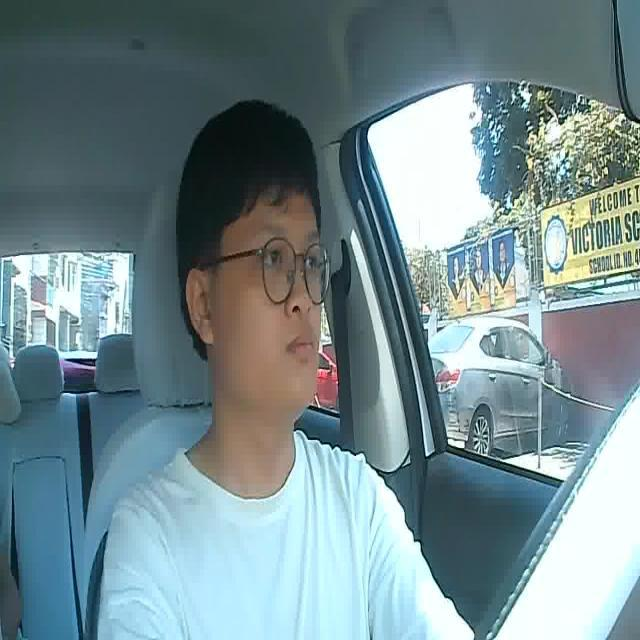Attentive: (175, 99, 324, 421)
Eye-Open: (260, 244, 292, 270), (298, 251, 319, 274)
Normal: (280, 328, 317, 363)
